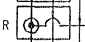Single Phase Tap-Off Unit: (14, 3, 72, 42)
